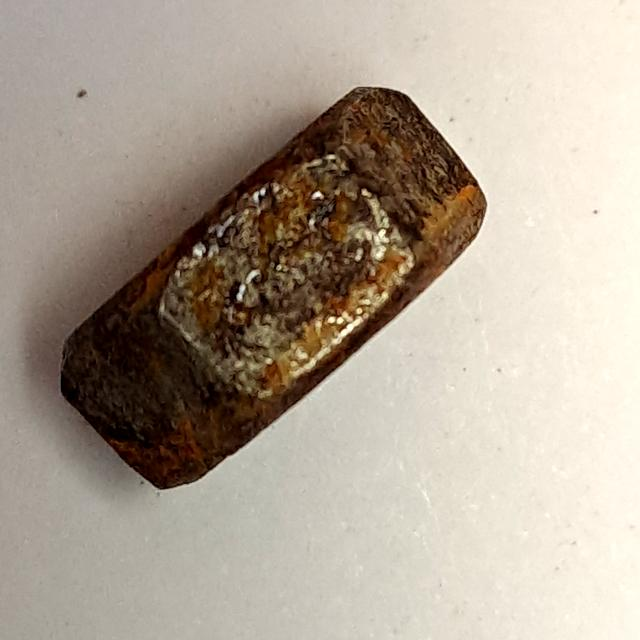Side_Rust: (49, 66, 497, 508)
